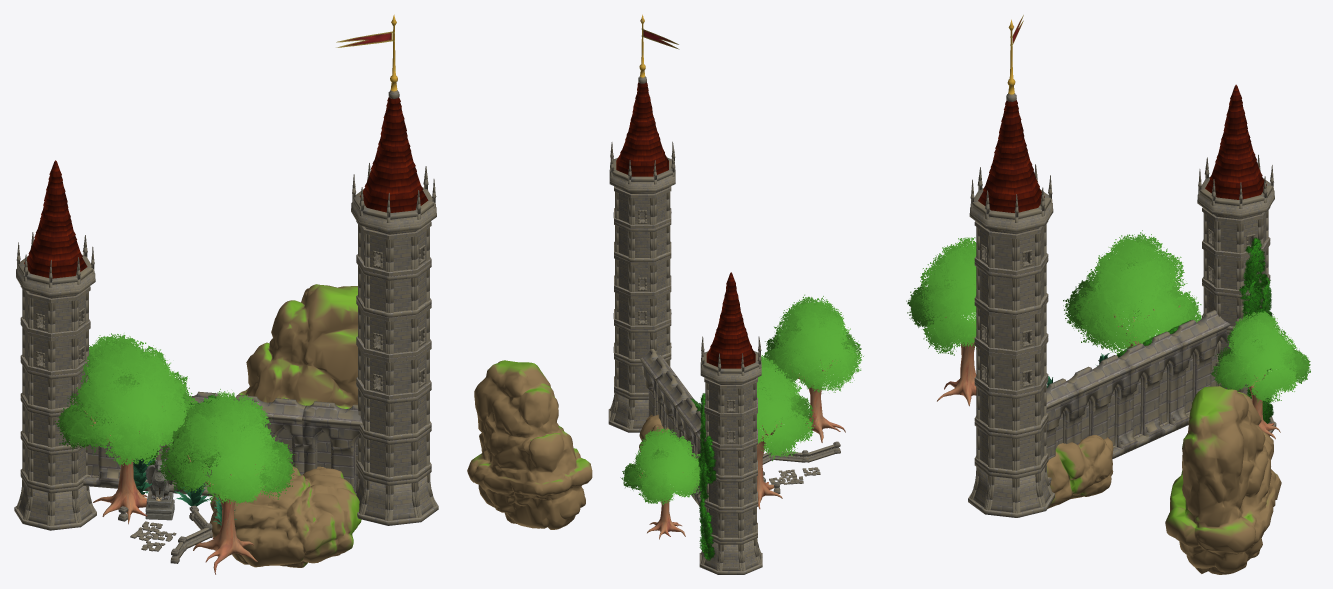
File: cell_x2_z-1_render.gltf
3 views of the same model, side by side, from view 1: azimuth 30°, elevation 25°; view 2: azimuth 150°, elevation 25°; view 3: azimuth 270°, elevation 25° (orthographic). The views are drawn at different scales.
Visible parts, largest first — view 1: SM_ENV_tree_castle_01_LOD0.022, SM_ENV_tree_castle_01_LOD0.031, SM_ENV_cliff_castle_02_LOD0.020, SM_ENV_cliff_castle_01_LOD0.012, SM_MOD_tower_roof_castle_LOD0.003, SM_MOD_citywall_straight_castle_LOD0.007, SM_MOD_tower_roof_castle_LOD0.001, SM_MOD_tower_segment_base_castle_LOD0.003, SM_MOD_tower_segment_window_castle_LOD0.004, SM_MOD_tower_segment_base_castle_LOD0.004, SM_MOD_tower_segment_wall_castle_LOD0.042, SM_MOD_tower_segment_window_castle_LOD0.014 (+15 smaller); view 2: SM_ENV_cliff_castle_02_LOD0.020, SM_ENV_tree_castle_01_LOD0.031, SM_ENV_tree_castle_01_LOD0.030, SM_ENV_tree_castle_01_LOD0.022, SM_MOD_tower_roof_castle_LOD0.003, SM_MOD_tower_roof_castle_LOD0.001, SM_MOD_tower_segment_wall_castle_LOD0.042, SM_MOD_tower_segment_window_castle_LOD0.004, SM_MOD_tower_segment_window_castle_LOD0.014, SM_MOD_tower_segment_window_castle_LOD0.009, SM_MOD_tower_segment_base_castle_LOD0.004, SM_MOD_tower_segment_wall_castle_LOD0.030 (+15 smaller); view 3: SM_ENV_cliff_castle_02_LOD0.020, SM_ENV_tree_castle_01_LOD0.022, SM_ENV_tree_castle_01_LOD0.031, SM_ENV_tree_castle_01_LOD0.030, SM_MOD_citywall_straight_castle_LOD0.008, SM_MOD_citywall_straight_castle_LOD0.006, SM_MOD_tower_roof_castle_LOD0.003, SM_MOD_tower_roof_castle_LOD0.001, SM_ENV_cliff_castle_01_LOD0.012, SM_MOD_tower_segment_base_castle_LOD0.003, SM_MOD_citywall_straight_castle_LOD0.003, SM_MOD_tower_segment_window_castle_LOD0.004 (+13 smaller).
Boxes of the visible parts, x1=… form: SM_ENV_tree_castle_01_LOD0.022: x1=54, y1=337, x2=198, y2=524; SM_ENV_tree_castle_01_LOD0.031: x1=156, y1=389, x2=296, y2=574; SM_ENV_cliff_castle_02_LOD0.020: x1=238, y1=284, x2=357, y2=408; SM_ENV_cliff_castle_01_LOD0.012: x1=210, y1=465, x2=361, y2=567; SM_MOD_tower_roof_castle_LOD0.003: x1=359, y1=97, x2=428, y2=212; SM_MOD_citywall_straight_castle_LOD0.007: x1=302, y1=401, x2=362, y2=492; SM_MOD_tower_roof_castle_LOD0.001: x1=24, y1=160, x2=87, y2=278; SM_MOD_tower_segment_base_castle_LOD0.003: x1=355, y1=464, x2=438, y2=525; SM_MOD_tower_segment_window_castle_LOD0.004: x1=356, y1=221, x2=431, y2=276; SM_MOD_tower_segment_base_castle_LOD0.004: x1=14, y1=473, x2=96, y2=530; SM_MOD_tower_segment_wall_castle_LOD0.042: x1=356, y1=254, x2=431, y2=317; SM_MOD_tower_segment_window_castle_LOD0.014: x1=356, y1=336, x2=431, y2=399; SM_ENV_cliff_castle_02_LOD0.020: x1=467, y1=360, x2=592, y2=529; SM_ENV_tree_castle_01_LOD0.031: x1=762, y1=294, x2=863, y2=442; SM_ENV_tree_castle_01_LOD0.030: x1=620, y1=427, x2=700, y2=539; SM_ENV_tree_castle_01_LOD0.022: x1=757, y1=355, x2=814, y2=509; SM_MOD_tower_roof_castle_LOD0.003: x1=616, y1=82, x2=668, y2=176; SM_MOD_tower_roof_castle_LOD0.001: x1=706, y1=272, x2=755, y2=368; SM_MOD_tower_segment_wall_castle_LOD0.042: x1=613, y1=212, x2=671, y2=262; SM_MOD_tower_segment_window_castle_LOD0.004: x1=614, y1=186, x2=671, y2=228; SM_MOD_tower_segment_window_castle_LOD0.014: x1=614, y1=279, x2=671, y2=329; SM_MOD_tower_segment_window_castle_LOD0.009: x1=614, y1=255, x2=671, y2=295; SM_MOD_tower_segment_base_castle_LOD0.004: x1=699, y1=535, x2=762, y2=574; SM_MOD_tower_segment_wall_castle_LOD0.030: x1=613, y1=313, x2=671, y2=363; SM_ENV_cliff_castle_02_LOD0.020: x1=1165, y1=386, x2=1281, y2=574; SM_ENV_tree_castle_01_LOD0.022: x1=1063, y1=230, x2=1201, y2=355; SM_ENV_tree_castle_01_LOD0.031: x1=906, y1=237, x2=976, y2=406; SM_ENV_tree_castle_01_LOD0.030: x1=1211, y1=311, x2=1310, y2=439; SM_MOD_citywall_straight_castle_LOD0.008: x1=1119, y1=331, x2=1184, y2=450; SM_MOD_citywall_straight_castle_LOD0.006: x1=1067, y1=355, x2=1132, y2=459; SM_MOD_tower_roof_castle_LOD0.003: x1=978, y1=100, x2=1044, y2=212; SM_MOD_tower_roof_castle_LOD0.001: x1=1205, y1=84, x2=1266, y2=199; SM_ENV_cliff_castle_01_LOD0.012: x1=1046, y1=435, x2=1113, y2=508; SM_MOD_tower_segment_base_castle_LOD0.003: x1=968, y1=458, x2=1054, y2=517; SM_MOD_citywall_straight_castle_LOD0.003: x1=1171, y1=310, x2=1230, y2=427; SM_MOD_tower_segment_window_castle_LOD0.004: x1=974, y1=221, x2=1048, y2=275.
Bounding box in the file's own units: 43.24 × 60.99 × 43.56.
14 materials, 13 textured.
